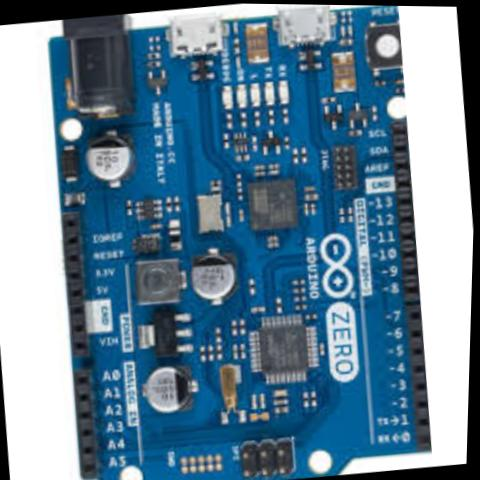Arduino-Zero: (23, 0, 446, 480)
